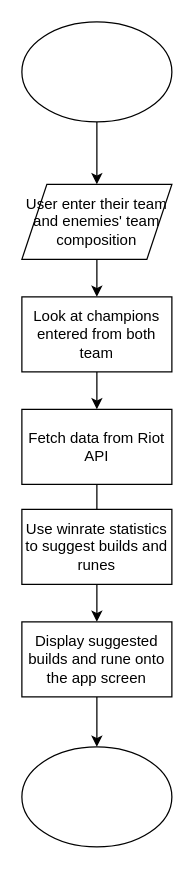
The diagram is 194 pixels wide and 869 high, and some of its shapes have lost their labels. The centre of each missing label's shape, as x and y in pixels:
"End" belongs at (x=96, y=796).
"Start" belongs at (x=96, y=71).
